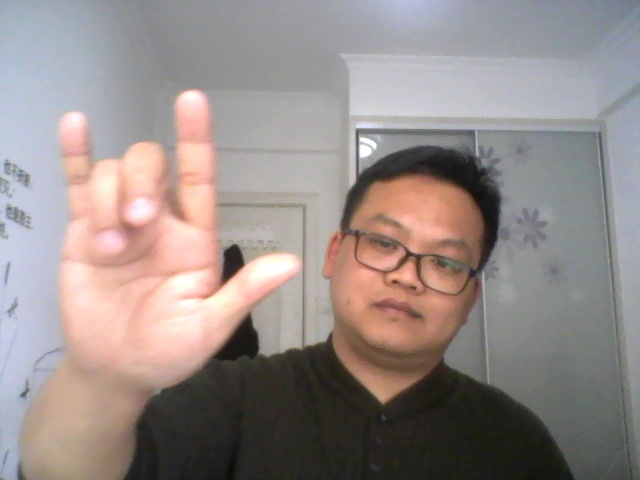I Love You: (52, 84, 304, 390)
